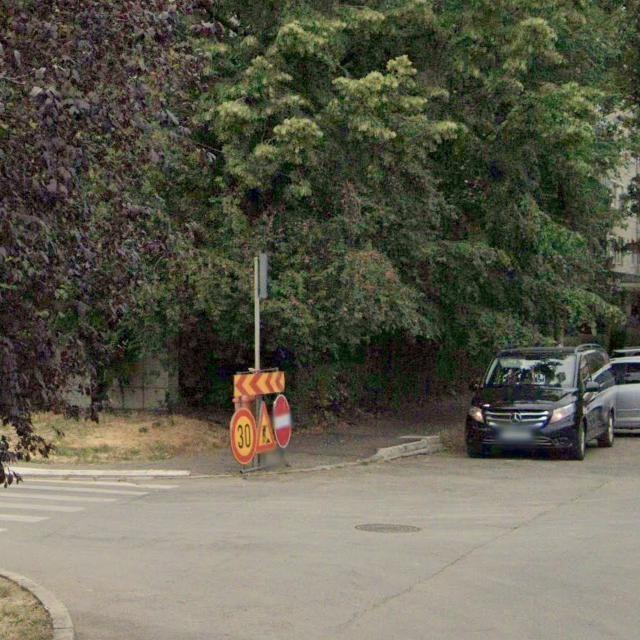forb_speed_over_30: (229, 409, 257, 465)
